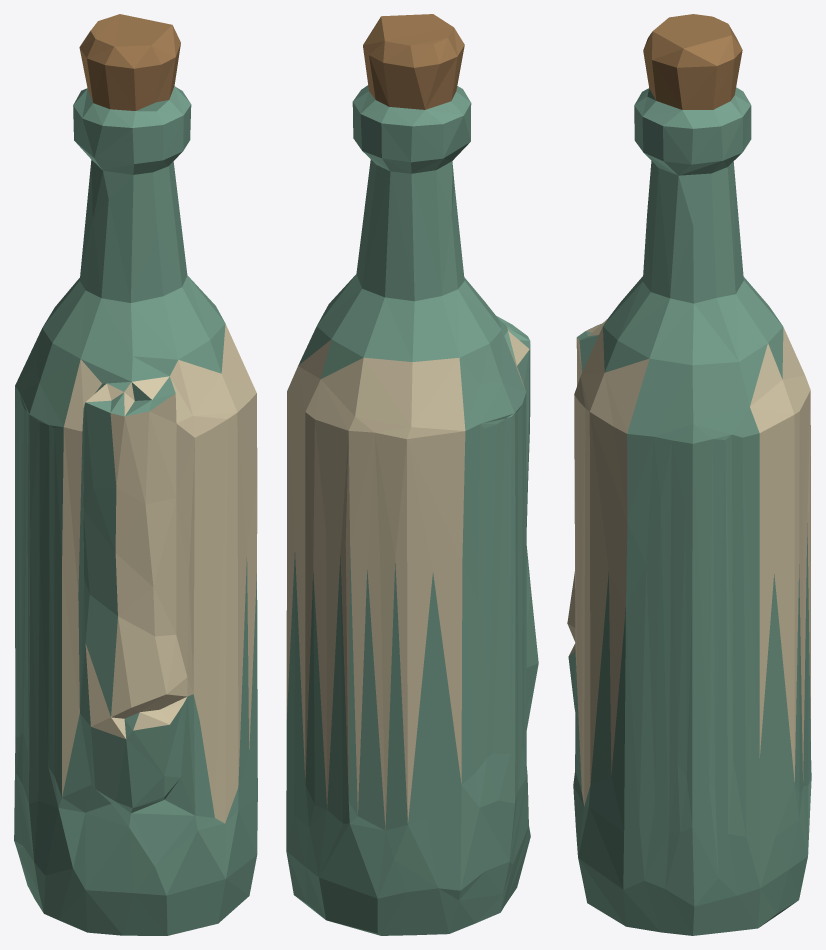
File: bottle.glb
The picture shows the model from 3 angles, left to right: view 1: azimuth 30°, elevation 25°; view 2: azimuth 150°, elevation 25°; view 3: azimuth 270°, elevation 25°; orthographic projection.
Visible parts, largest first — view 1: bottle; view 2: bottle; view 3: bottle.
Boxes of the visible parts, x1,y1,x2,y2 form: bottle: (14, 14, 257, 935); bottle: (286, 14, 538, 935); bottle: (567, 14, 811, 935).
Bounding box in the file's own units: 0.075 × 0.29 × 0.075.
